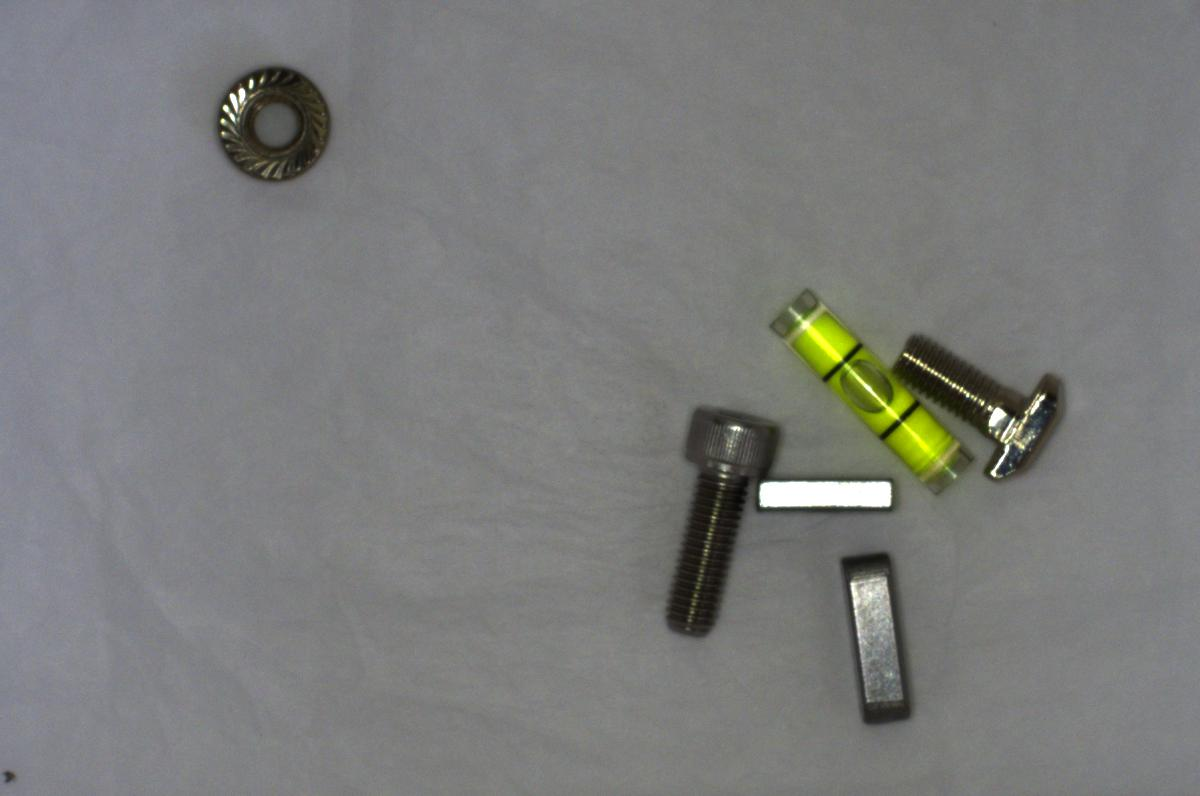Flange nut: (205, 56, 355, 190)
Hexagon screw: (635, 392, 785, 636)
Horizontal bubble: (764, 291, 970, 495)
Keybar: (834, 549, 934, 727)
Rectangular nut: (752, 465, 908, 523)
T-shaped screw: (882, 327, 1069, 478)
